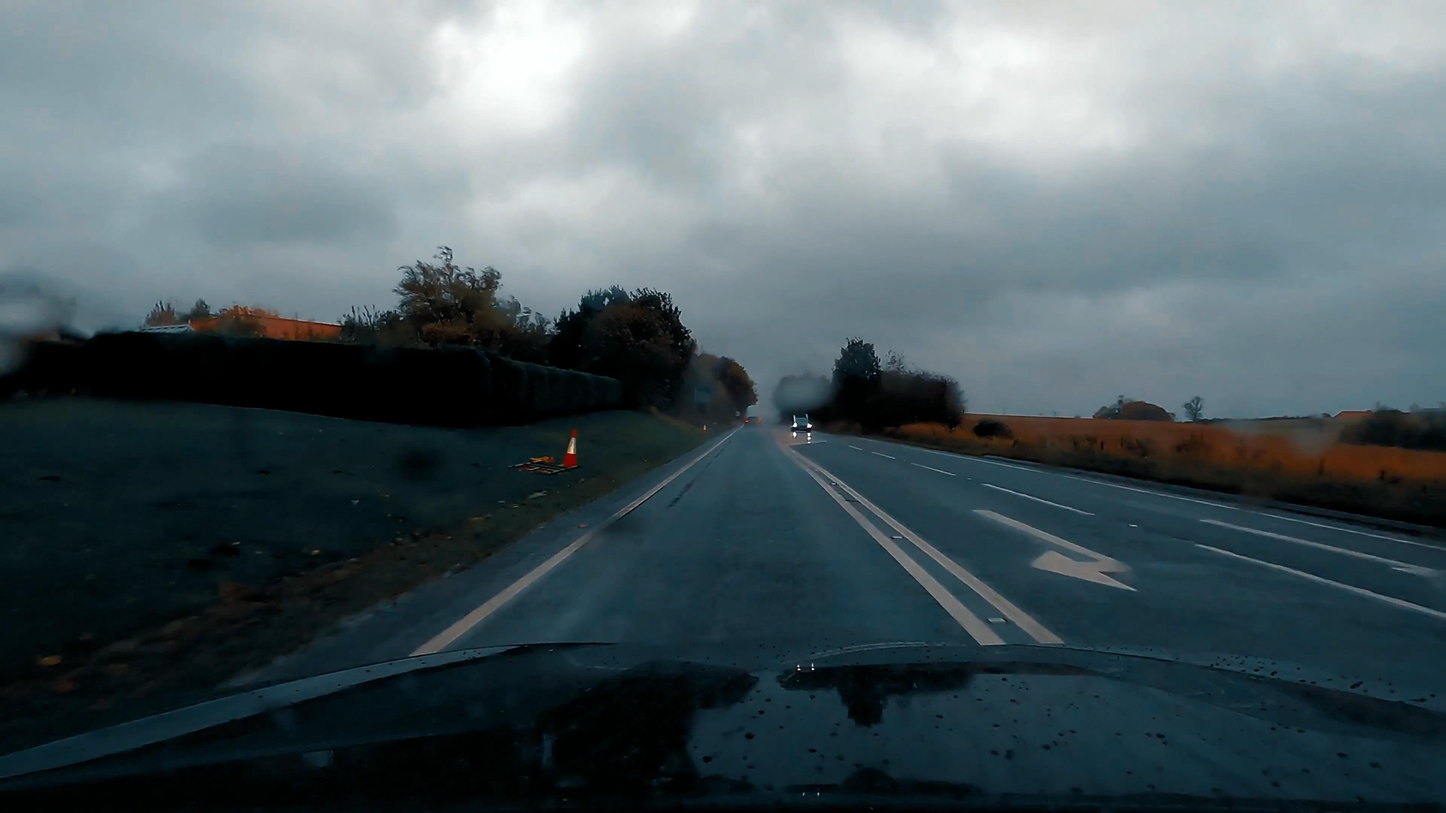wet: (262, 416, 1446, 678)
